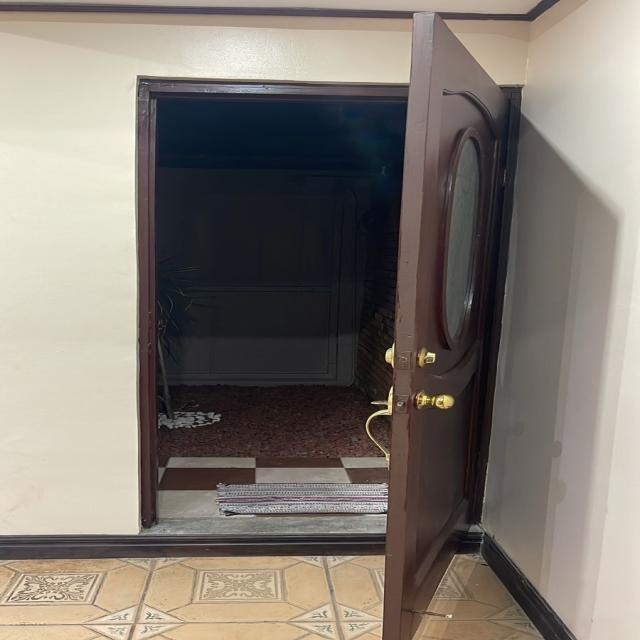OpenDoor: (125, 15, 503, 640)
